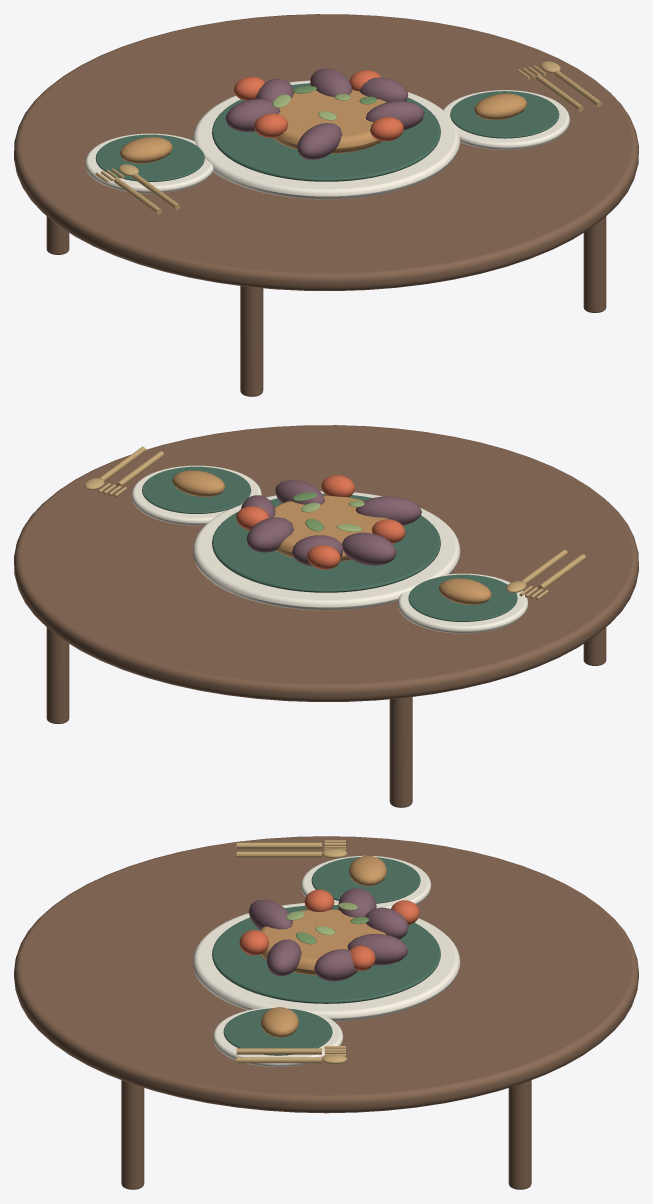
The model's file is hero-table.glb.
The picture shows the model from 3 angles, top to bottom: view 1: azimuth 30°, elevation 25°; view 2: azimuth 150°, elevation 25°; view 3: azimuth 270°, elevation 25°; orthographic projection.
Visible parts, largest first — view 1: Tabletop, Serving platter | well, Serving platter | rim, Roasted centerpiece, Side plate well 2, Side plate well 1, Table leg 1, Table leg 2, Side plate 2, Side plate 1, Roasted vegetable 6, Roasted vegetable 1 (+10 smaller); view 2: Tabletop, Serving platter | well, Serving platter | rim, Side plate well 2, Side plate well 1, Roasted centerpiece, Table leg 3, Table leg 4, Side plate 1, Side plate 2, Roasted vegetable 1, Roasted vegetable 6 (+10 smaller); view 3: Tabletop, Serving platter | well, Serving platter | rim, Roasted centerpiece, Side plate well 2, Side plate well 1, Table leg 2, Table leg 4, Side plate 2, Roasted vegetable 3, Side plate 1, Roasted vegetable 4 (+13 smaller).
Part boxes in pixels (x1=…): Tabletop: x1=14, y1=14, x2=638, y2=290; Serving platter | well: x1=212, y1=83, x2=440, y2=181; Serving platter | rim: x1=192, y1=80, x2=460, y2=199; Roasted centerpiece: x1=272, y1=89, x2=385, y2=153; Side plate well 2: x1=450, y1=91, x2=559, y2=138; Side plate well 1: x1=95, y1=134, x2=204, y2=181; Table leg 1: x1=240, y1=286, x2=263, y2=396; Table leg 2: x1=583, y1=216, x2=606, y2=312; Side plate 2: x1=443, y1=90, x2=569, y2=149; Side plate 1: x1=85, y1=133, x2=213, y2=193; Roasted vegetable 6: x1=297, y1=123, x2=342, y2=159; Roasted vegetable 1: x1=225, y1=99, x2=280, y2=131; Tabletop: x1=14, y1=425, x2=638, y2=701; Serving platter | well: x1=212, y1=493, x2=440, y2=592; Serving platter | rim: x1=192, y1=491, x2=460, y2=610; Side plate well 2: x1=142, y1=466, x2=251, y2=513; Side plate well 1: x1=408, y1=574, x2=517, y2=621; Roasted centerpiece: x1=273, y1=495, x2=388, y2=561; Table leg 3: x1=389, y1=697, x2=412, y2=807; Table leg 4: x1=46, y1=627, x2=69, y2=723; Side plate 1: x1=398, y1=573, x2=528, y2=633; Side plate 2: x1=131, y1=465, x2=261, y2=525; Roasted vegetable 1: x1=342, y1=532, x2=396, y2=565; Roasted vegetable 6: x1=355, y1=496, x2=421, y2=525; Tabletop: x1=14, y1=836, x2=638, y2=1113; Serving platter | well: x1=212, y1=905, x2=440, y2=1003; Serving platter | rim: x1=192, y1=902, x2=460, y2=1021; Roasted centerpiece: x1=260, y1=909, x2=386, y2=975; Side plate well 2: x1=223, y1=1008, x2=332, y2=1055; Side plate well 1: x1=311, y1=857, x2=420, y2=903; Table leg 2: x1=121, y1=1080, x2=144, y2=1189; Table leg 4: x1=508, y1=1080, x2=531, y2=1189; Side plate 2: x1=213, y1=1008, x2=343, y2=1066; Roasted vegetable 3: x1=347, y1=934, x2=407, y2=965; Side plate 1: x1=301, y1=855, x2=431, y2=908; Roasted vegetable 4: x1=314, y1=949, x2=357, y2=981.
Size of the model in its own units: 7.1 by 2.27 by 7.1.
